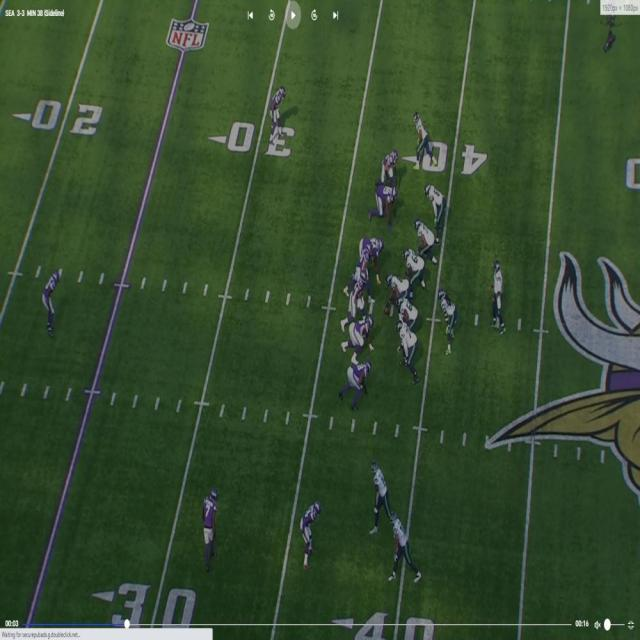center: (387, 271, 409, 301)
db: (299, 500, 321, 567), (201, 490, 218, 560), (46, 272, 64, 333), (270, 83, 289, 140)
lb: (494, 258, 506, 326), (426, 187, 440, 232)
qb: (440, 288, 458, 348)
skill: (370, 460, 395, 531), (389, 510, 414, 577), (415, 113, 432, 163)
